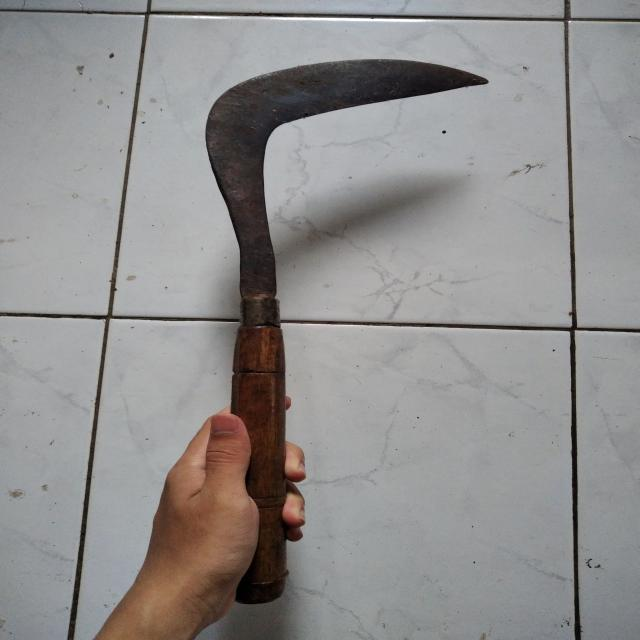Celurit: (208, 57, 487, 608)
